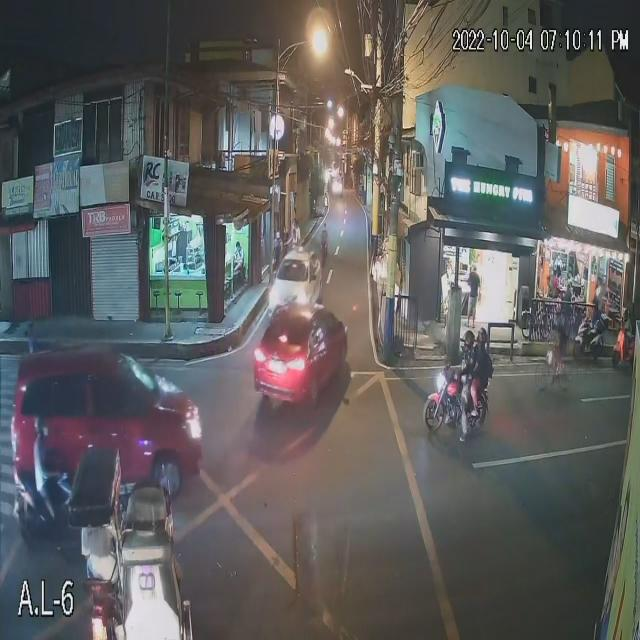helmet: (31, 413, 53, 438), (457, 327, 477, 353), (474, 327, 491, 347)
motorcycle: (424, 373, 490, 435), (9, 469, 71, 534), (574, 314, 620, 364)
rider: (27, 435, 62, 532), (450, 350, 477, 441), (471, 346, 494, 416)
